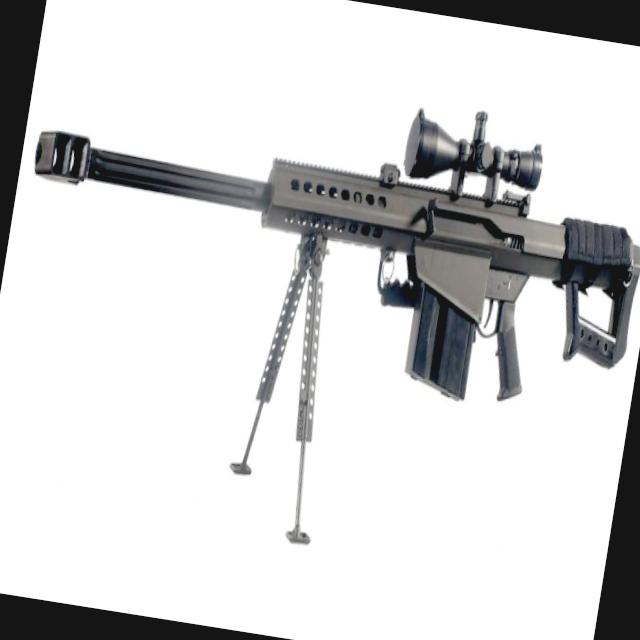rifle: (1, 38, 640, 441)
